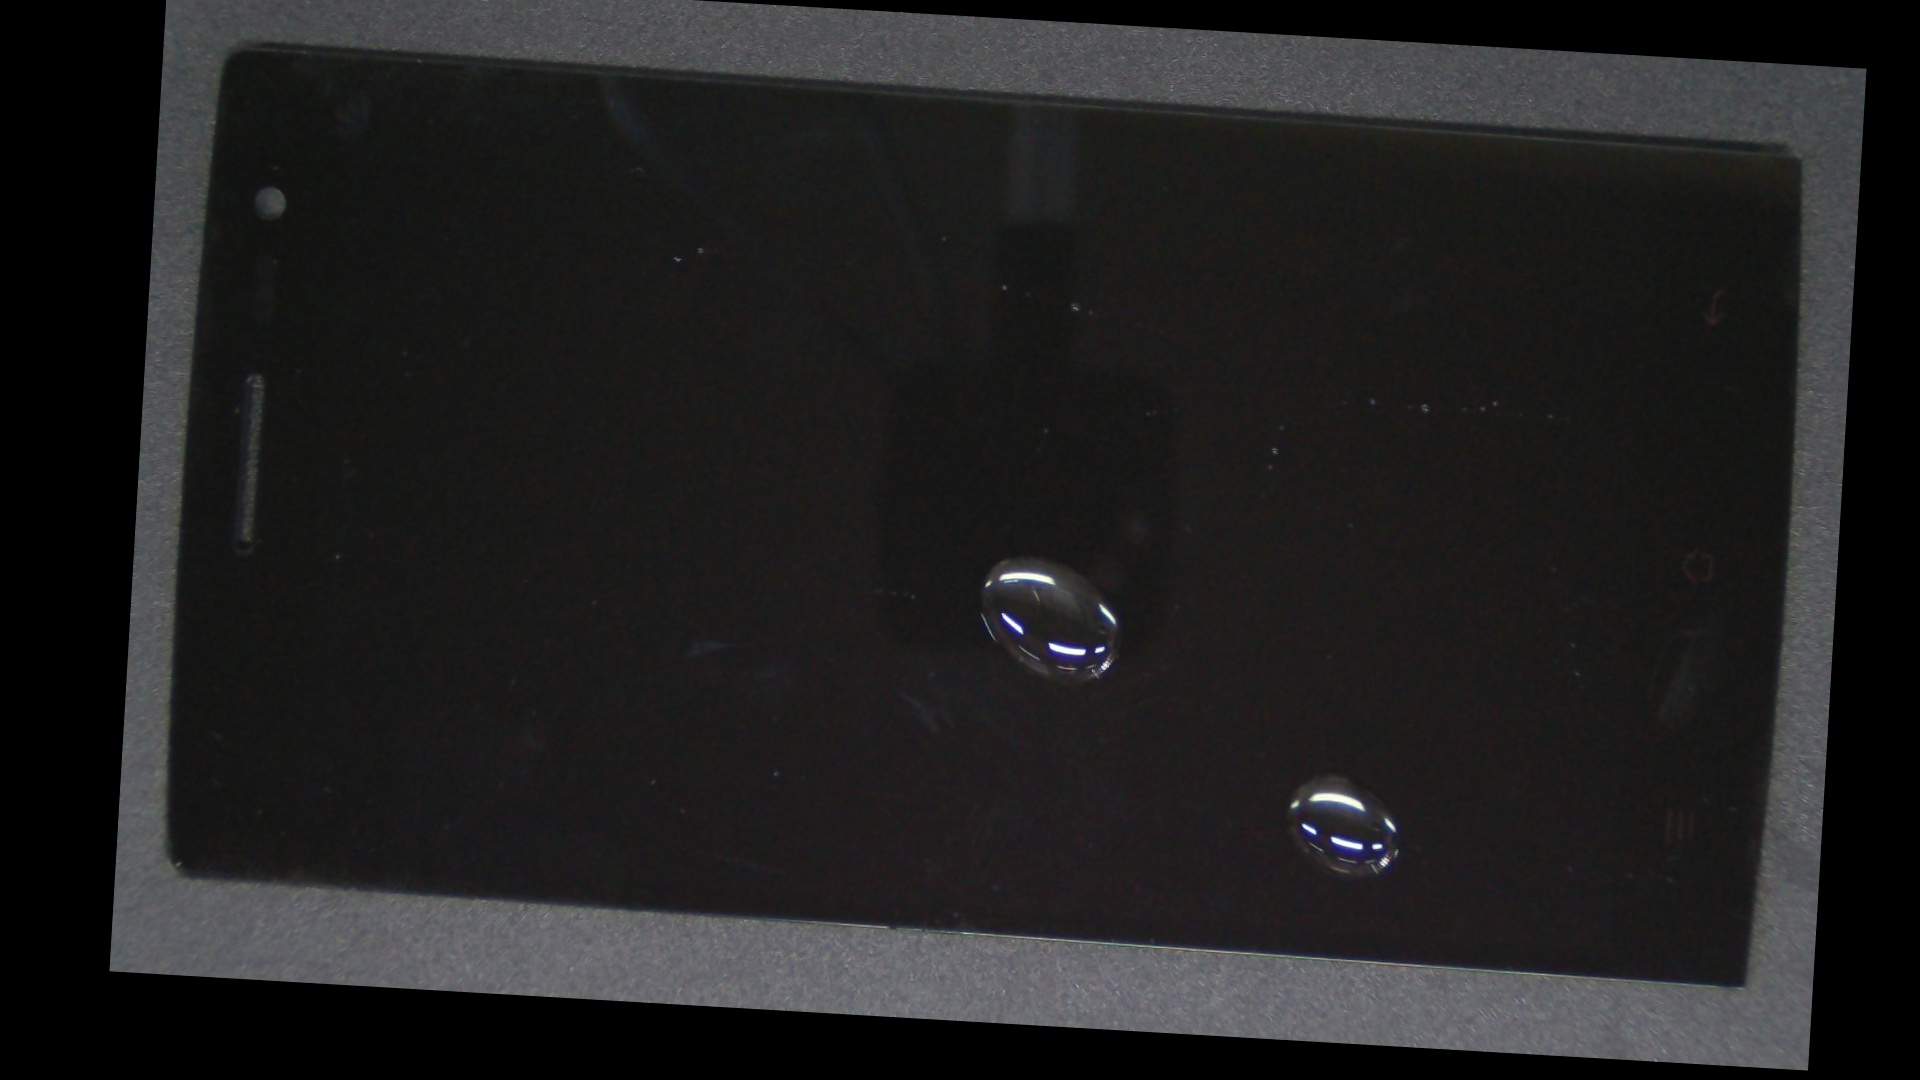oil: (713, 371, 1845, 1071), (563, 262, 1476, 852)
